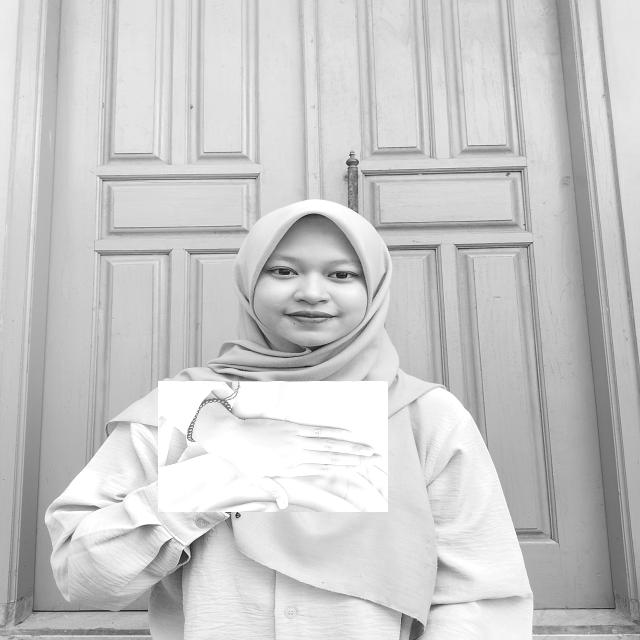tolong: (158, 381, 388, 512)
